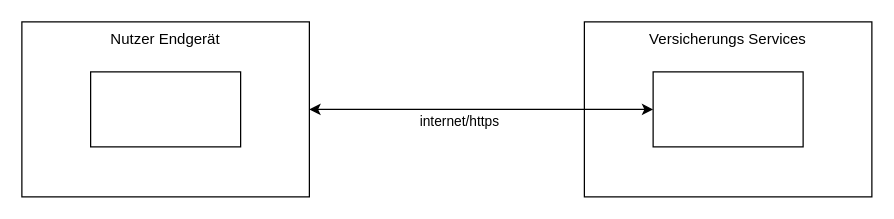
Image size: 894x219. Some labels were removed from this diagram. Each missing label, with the centre of its shape:
<<service>> UI-Service: (x=727, y=109)
<<Web Browser>> Web Interface: (x=165, y=109)
